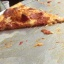pizza: (1, 3, 53, 34)
